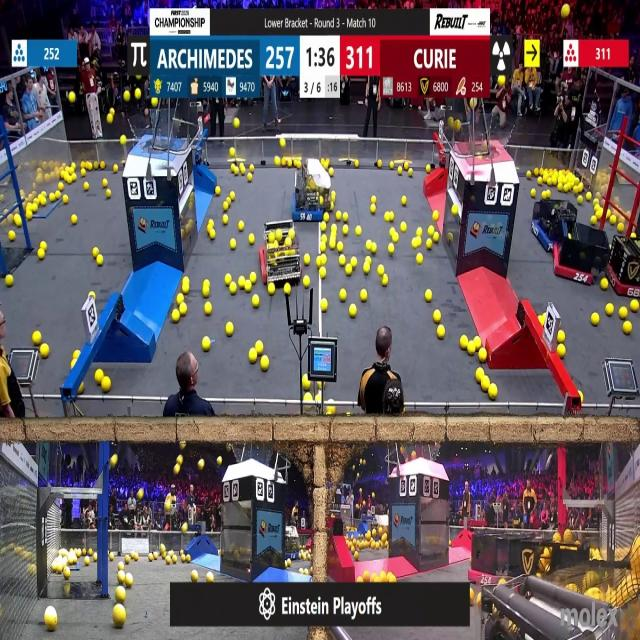ball_airborne: (562, 5, 570, 18), (122, 92, 130, 103), (69, 93, 76, 105), (135, 90, 142, 101), (449, 117, 456, 128), (110, 455, 117, 466), (163, 500, 170, 511), (498, 75, 505, 85), (199, 459, 205, 470), (151, 98, 157, 108), (108, 114, 114, 124), (174, 464, 180, 474), (234, 117, 240, 127), (138, 490, 144, 500), (177, 456, 183, 465), (182, 524, 188, 533), (217, 456, 222, 466), (120, 136, 125, 145), (180, 443, 185, 451), (413, 452, 417, 460)
ball_ground: (113, 605, 125, 627), (44, 610, 56, 631), (33, 332, 42, 347), (95, 368, 104, 381), (203, 284, 211, 298), (203, 338, 211, 352), (102, 378, 110, 392), (489, 385, 497, 399), (262, 356, 270, 370), (249, 349, 257, 363), (116, 588, 124, 602), (303, 376, 310, 391), (40, 345, 48, 358), (479, 349, 487, 362), (225, 322, 233, 335), (624, 321, 632, 334), (438, 325, 446, 338), (558, 345, 566, 358), (482, 378, 490, 391), (377, 571, 387, 581), (425, 288, 432, 302), (433, 311, 441, 323), (605, 305, 613, 317), (631, 301, 639, 313), (126, 574, 134, 586), (172, 311, 180, 323), (592, 313, 599, 326), (252, 294, 259, 307), (473, 338, 480, 351), (205, 304, 212, 317), (620, 308, 628, 319), (190, 570, 198, 581), (238, 278, 246, 289), (116, 572, 124, 583), (360, 289, 367, 301), (255, 342, 262, 354), (349, 306, 356, 318), (338, 242, 345, 254), (224, 274, 231, 286), (180, 304, 187, 316), (460, 338, 467, 350), (475, 368, 482, 380), (467, 344, 474, 356), (370, 571, 378, 581), (250, 273, 257, 284), (601, 279, 608, 290), (207, 571, 214, 582), (343, 224, 350, 235), (37, 249, 44, 260), (558, 333, 565, 344), (14, 216, 21, 227), (245, 282, 252, 293), (304, 276, 310, 288), (320, 268, 326, 280), (341, 289, 347, 301), (321, 300, 327, 312), (182, 282, 188, 294), (269, 284, 276, 294), (363, 265, 370, 275), (284, 284, 291, 294), (97, 255, 104, 265), (452, 206, 459, 216), (388, 244, 395, 254), (231, 284, 238, 294), (305, 391, 312, 401), (93, 247, 100, 257), (73, 350, 80, 360), (388, 572, 395, 582), (595, 210, 602, 220), (379, 266, 385, 277), (305, 254, 311, 265), (6, 276, 12, 287), (370, 243, 376, 254), (382, 276, 388, 287), (346, 266, 352, 277), (320, 254, 326, 265), (78, 383, 84, 394), (365, 241, 371, 252), (363, 570, 369, 581), (326, 409, 334, 417), (556, 182, 564, 190), (8, 233, 15, 242), (340, 255, 346, 265), (238, 220, 244, 230), (417, 254, 423, 264), (231, 240, 237, 250), (248, 235, 254, 245), (413, 239, 419, 249), (351, 257, 357, 267), (342, 212, 348, 222), (432, 210, 438, 220), (323, 212, 329, 222), (428, 225, 434, 235), (64, 568, 70, 578), (619, 222, 625, 232), (385, 212, 391, 222), (329, 240, 335, 250), (320, 243, 326, 253), (316, 392, 322, 402), (208, 220, 214, 230), (387, 226, 393, 236), (576, 183, 582, 193), (356, 574, 363, 582), (54, 191, 61, 199), (364, 255, 371, 263), (71, 215, 77, 224), (369, 205, 375, 214), (400, 197, 406, 206), (177, 293, 183, 302), (222, 203, 228, 212), (591, 215, 597, 224), (610, 215, 616, 224), (337, 212, 343, 221), (63, 194, 69, 203), (276, 158, 282, 167), (234, 166, 240, 175), (66, 174, 72, 183), (88, 163, 94, 172), (448, 234, 454, 243), (32, 204, 38, 213), (356, 225, 361, 235), (106, 188, 111, 198), (393, 234, 398, 244), (210, 232, 216, 240), (530, 188, 536, 196), (40, 242, 46, 250), (320, 222, 326, 230), (330, 223, 336, 231), (231, 191, 237, 199), (80, 169, 86, 177), (587, 191, 593, 199), (59, 182, 65, 190), (83, 558, 89, 566), (49, 192, 55, 200), (284, 560, 290, 568), (526, 171, 532, 179), (27, 212, 33, 220), (108, 554, 114, 562), (286, 161, 292, 169), (231, 148, 237, 156), (40, 199, 46, 207), (294, 162, 300, 170), (427, 240, 432, 249), (400, 222, 405, 231), (222, 215, 227, 224), (433, 234, 438, 243), (215, 186, 220, 195), (103, 179, 108, 188), (577, 197, 582, 206), (241, 166, 246, 175), (397, 168, 403, 175), (83, 182, 88, 190), (426, 166, 431, 174), (101, 162, 106, 170), (247, 174, 252, 182), (417, 229, 422, 237), (321, 235, 326, 243), (120, 562, 125, 570), (378, 162, 383, 170), (354, 553, 359, 561), (329, 204, 334, 212), (564, 183, 569, 191), (546, 177, 551, 185), (71, 359, 76, 367), (330, 191, 335, 199), (71, 163, 76, 171), (167, 558, 173, 564), (370, 195, 375, 202), (409, 170, 414, 177), (537, 177, 542, 184), (354, 162, 359, 169), (249, 166, 254, 173), (148, 555, 153, 562), (91, 290, 96, 297), (113, 166, 117, 174), (329, 168, 333, 176), (186, 555, 190, 563), (546, 189, 550, 197), (406, 160, 410, 168), (387, 161, 391, 168), (305, 568, 309, 575), (72, 175, 76, 182), (80, 163, 84, 170), (632, 233, 636, 240), (298, 568, 302, 574)
goal: (461, 115, 518, 158), (129, 115, 186, 152)
robot_blue: (531, 196, 577, 253), (292, 174, 331, 222), (284, 529, 302, 558)
robot_red: (469, 531, 522, 587), (260, 222, 302, 286), (610, 233, 640, 300)
